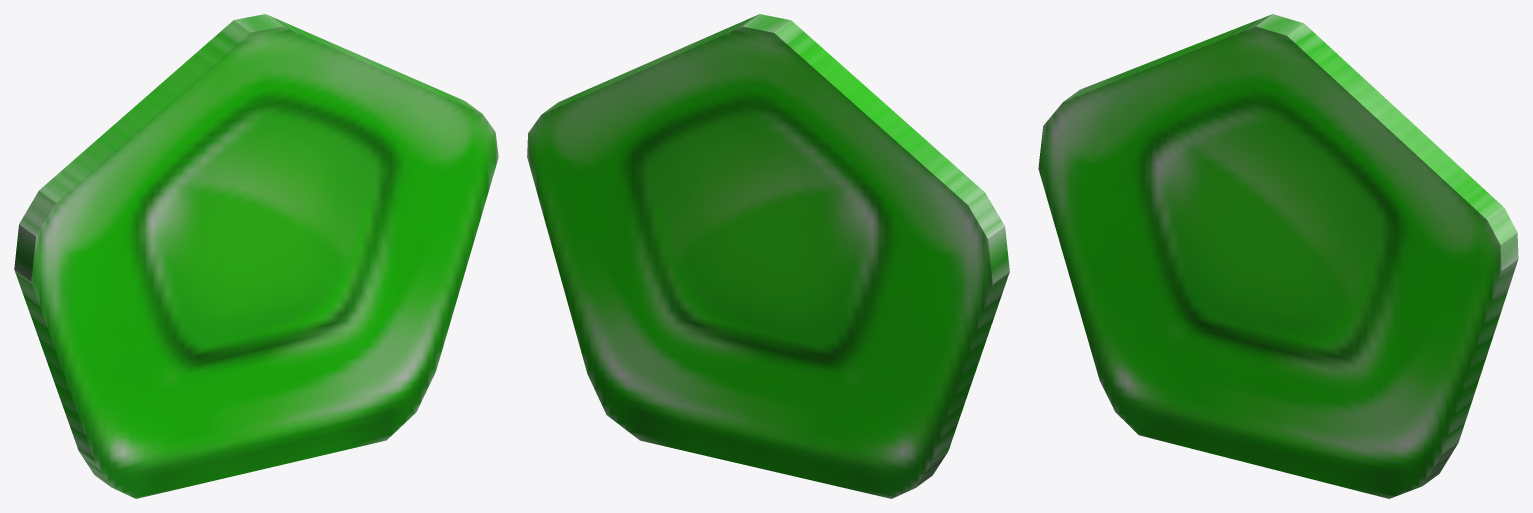
File: gem.glb
3 renders of one model, left to right at view 1: azimuth 30°, elevation 25°; view 2: azimuth 150°, elevation 25°; view 3: azimuth 330°, elevation 25°, orthographic.
Parts seen in each view (by area): view 1: Gem; view 2: Gem; view 3: Gem.
Part boxes in pixels (<box>): Gem: <box>14,14,498,498</box>; Gem: <box>527,14,1009,498</box>; Gem: <box>1038,14,1518,498</box>.
Bounding box in the file's own units: 0.4889 × 0.4414 × 0.0346.
1 material, 1 textured.
